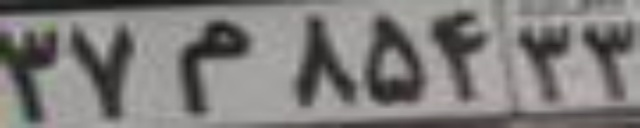3: (1, 21, 62, 123), (513, 22, 575, 103), (581, 16, 635, 101)
4: (431, 11, 490, 101)
5: (363, 19, 423, 101)
7: (66, 19, 142, 119)
8: (296, 18, 357, 105)
mim: (178, 21, 253, 115)
